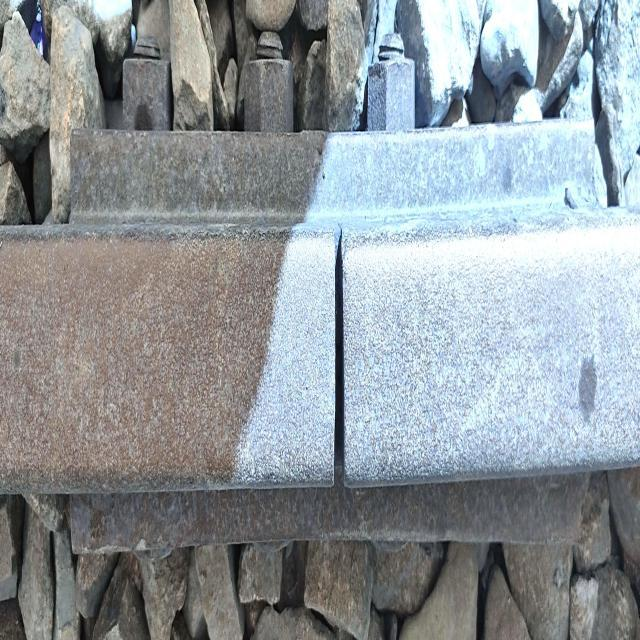Defective Joint: (39, 47, 603, 607)
